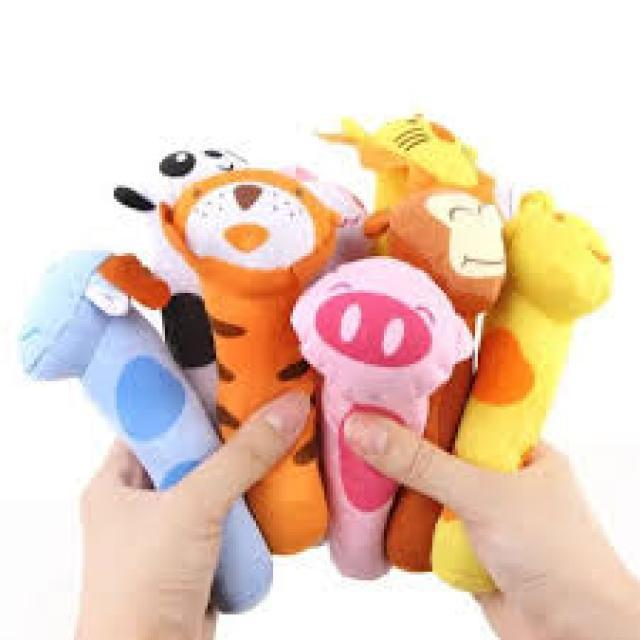soft-toy: (294, 257, 474, 579), (161, 170, 340, 439), (22, 254, 220, 489), (456, 192, 614, 472), (367, 183, 506, 329), (324, 116, 494, 210), (249, 420, 329, 554), (219, 501, 272, 610), (434, 512, 491, 592), (425, 360, 472, 450), (389, 492, 441, 570)
